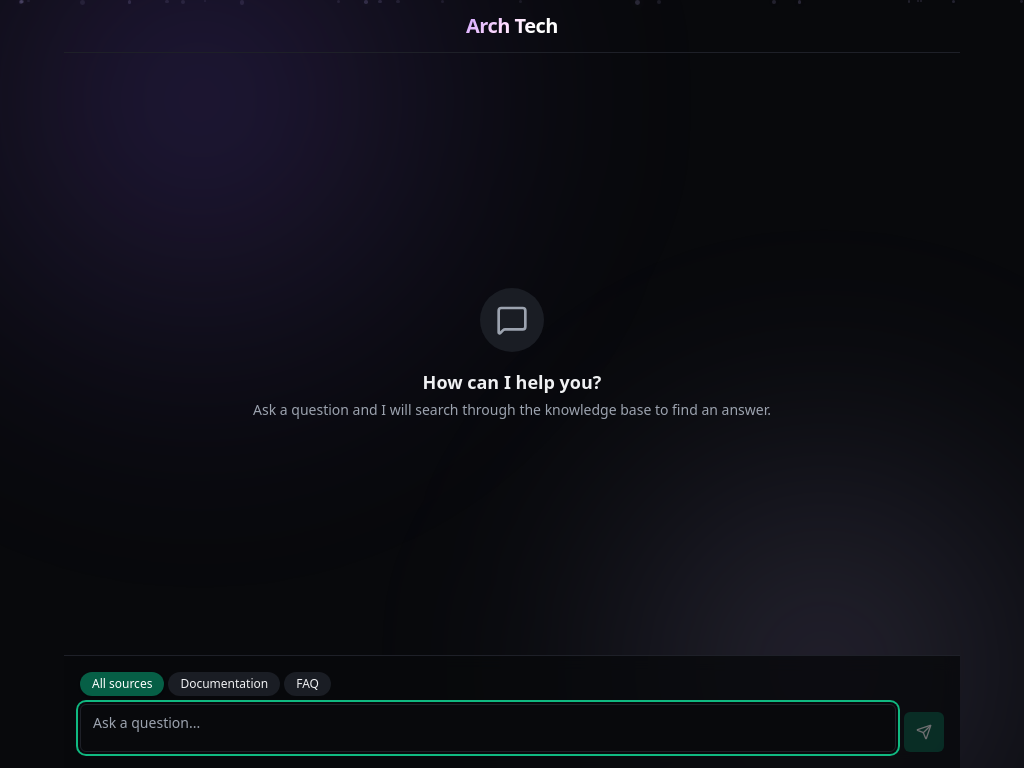
Test: ChatPage › send button enables when user types a message
Step 1. Type "Hello" into the text box with placeholder "Ask a question..." → {"x": 488, "y": 728}, box [80,704,896,752]
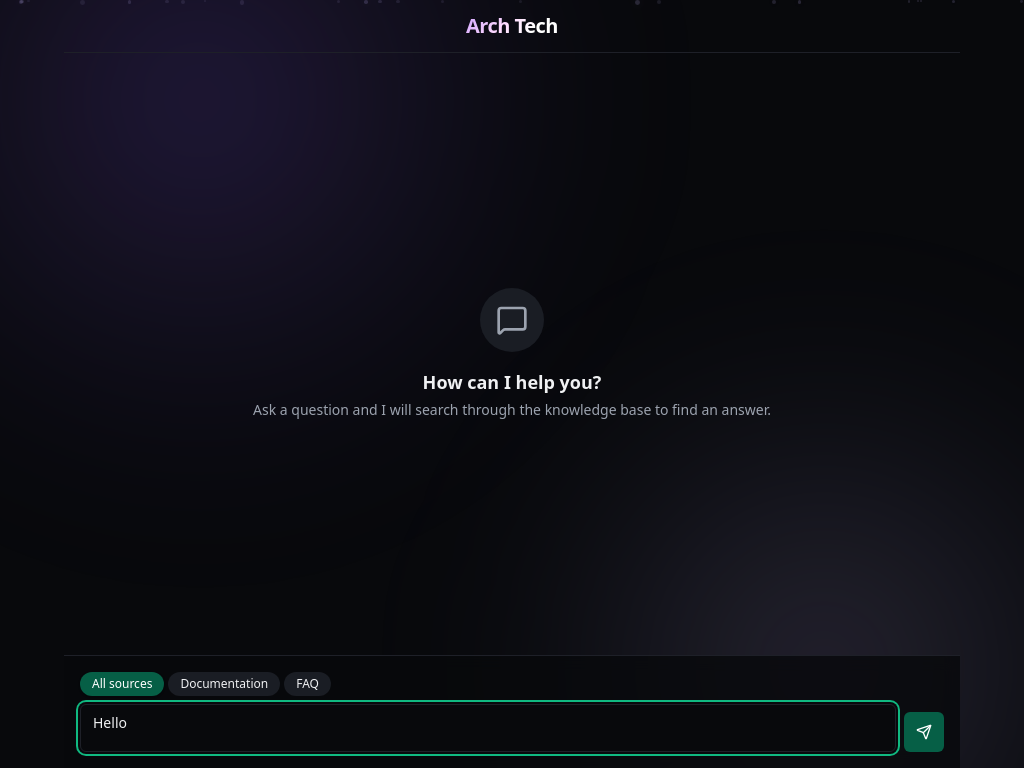
expect the button named "Send message" is enabled: met, box [904,712,944,752]
